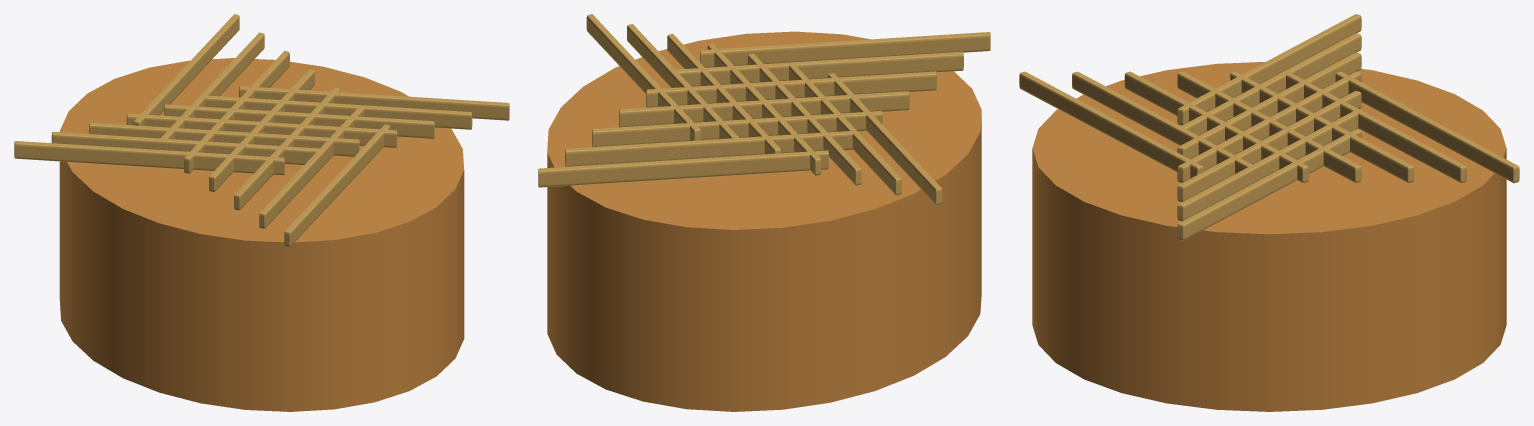
Rendered from wp-kouign-amann.glb.
3 views of the same model, side by side, from view 1: azimuth 30°, elevation 25°; view 2: azimuth 150°, elevation 25°; view 3: azimuth 270°, elevation 25° (orthographic). The views are drawn at different scales.
Parts seen in each view (by area): view 1: wp-kouign-amann; view 2: wp-kouign-amann; view 3: wp-kouign-amann.
Boxes of the visible parts, box(x1,y1,x2,y2) form: wp-kouign-amann: box(14, 14, 509, 411); wp-kouign-amann: box(538, 14, 990, 411); wp-kouign-amann: box(1019, 14, 1519, 411).
Bounding box in the file's own units: 0.1098 × 0.05 × 0.1098.
